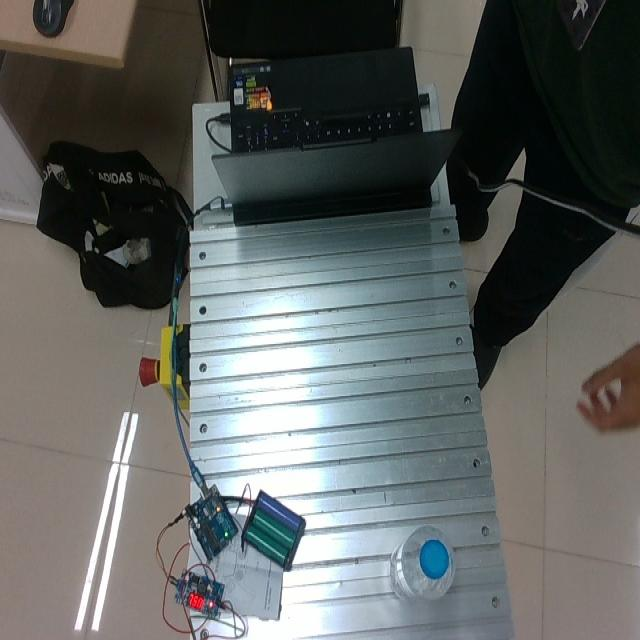lavie: (389, 524, 456, 604)
